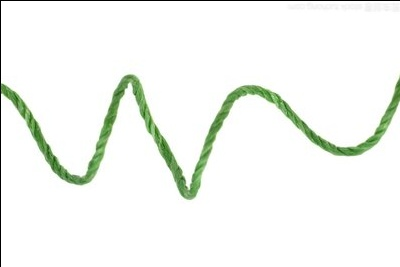9/可回收垃圾/绳子: (1, 74, 400, 200)
